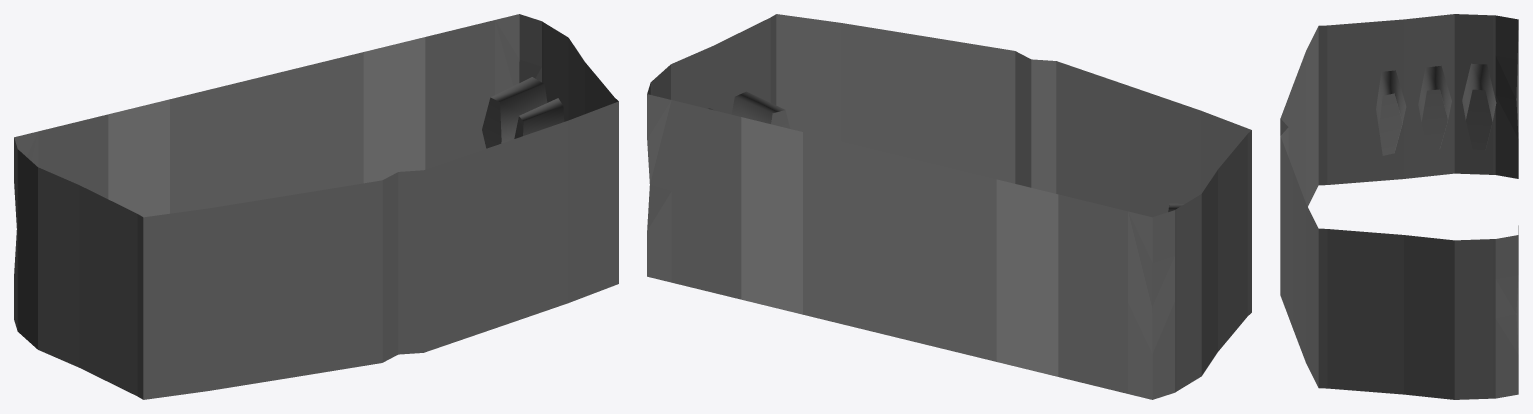
3 views of the same model, side by side, from view 1: azimuth 30°, elevation 25°; view 2: azimuth 150°, elevation 25°; view 3: azimuth 270°, elevation 25° (orthographic). The views are drawn at different scales.
Parts seen in each view (by area): view 1: group_13; view 2: group_13; view 3: group_13.
Part boxes in pixels (x1,y1,x2,y2): group_13: [14, 14, 618, 399]; group_13: [647, 14, 1251, 399]; group_13: [1280, 14, 1518, 399].
Bounding box in the file's own units: 12458 × 4096 × 5536.
1 material, 1 textured.
